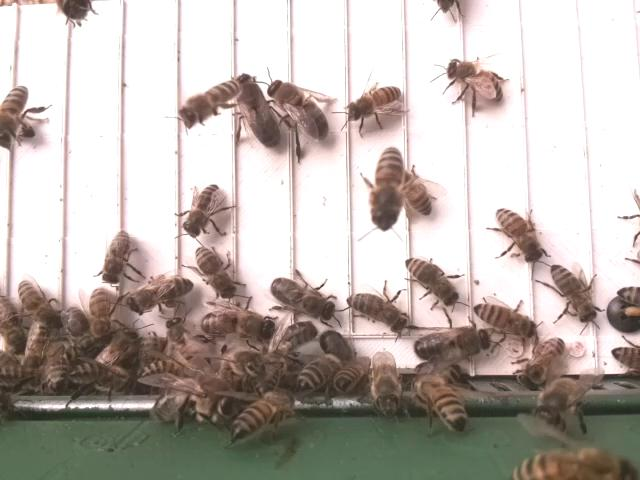Drone: (266, 75, 328, 140), (232, 71, 281, 149), (268, 275, 338, 323), (411, 327, 492, 363), (200, 306, 275, 343)
Worker: (226, 388, 296, 439), (548, 263, 599, 324), (444, 56, 504, 107), (180, 77, 243, 125), (403, 255, 461, 307), (346, 288, 418, 329), (495, 204, 544, 264), (423, 372, 470, 430), (126, 275, 193, 315), (372, 143, 403, 228), (194, 243, 237, 301), (15, 276, 61, 330), (181, 182, 223, 239), (474, 302, 540, 338), (520, 337, 566, 385), (346, 86, 404, 123), (0, 82, 30, 145), (399, 166, 433, 219), (99, 228, 131, 284), (86, 285, 113, 343)
